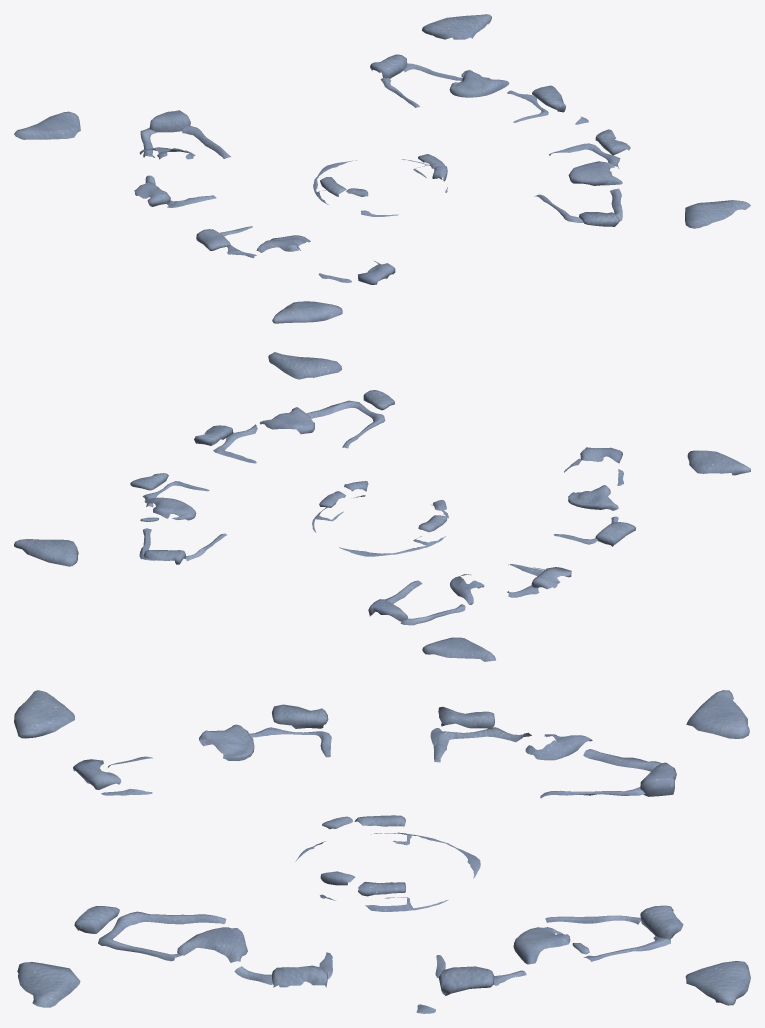
The model's file is pref_sm_beach_winter_snow01_lv1.fbx.
3 views of the same model, one above another, from view 1: azimuth 30°, elevation 25°; view 2: azimuth 150°, elevation 25°; view 3: azimuth 270°, elevation 25° (orthographic). The views are drawn at different scales.
Visible parts, largest first — view 1: pref_sm_beach_winter_snow01_lv1; view 2: pref_sm_beach_winter_snow01_lv1; view 3: pref_sm_beach_winter_snow01_lv1.
Part boxes in pixels (left/top/right/bottom): pref_sm_beach_winter_snow01_lv1: left=14, top=14, right=750, bottom=323; pref_sm_beach_winter_snow01_lv1: left=14, top=352, right=750, bottom=661; pref_sm_beach_winter_snow01_lv1: left=14, top=690, right=750, bottom=1013.
Size of the model in its own units: 50.37 by 2.91 by 49.87.
